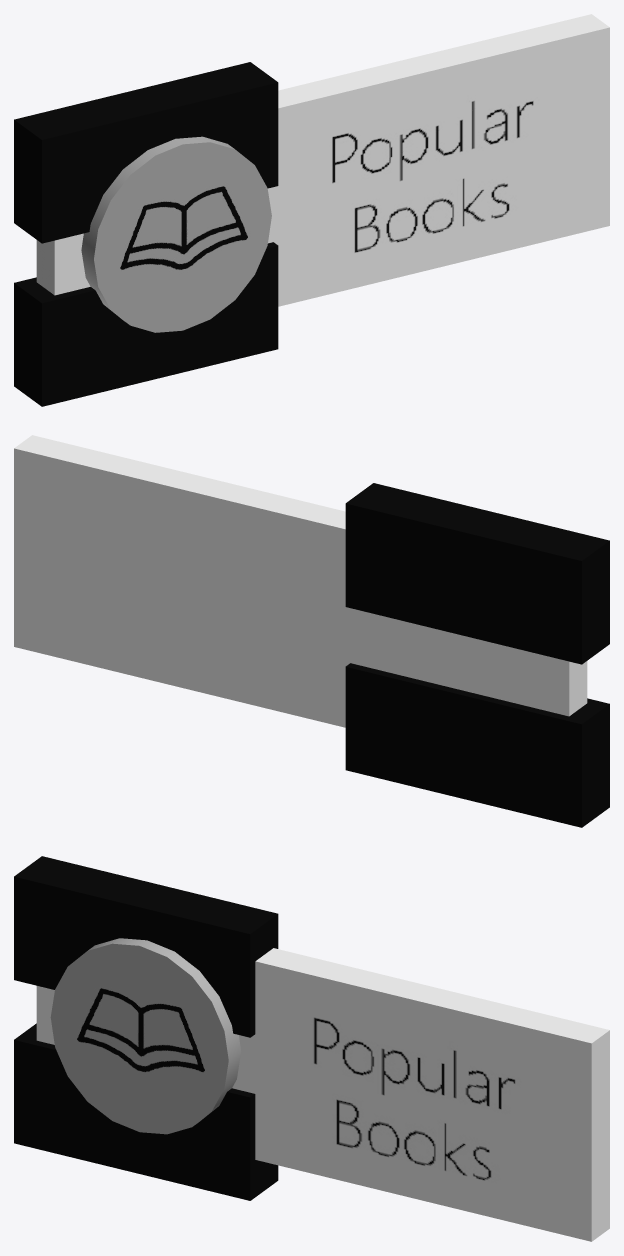
File: PopularBooks.fbx
The picture shows the model from 3 angles, top to bottom: view 1: azimuth 30°, elevation 25°; view 2: azimuth 150°, elevation 25°; view 3: azimuth 330°, elevation 25°; orthographic projection.
Parts seen in each view (by area): view 1: pCube1, pCylinder1, pCube2, pCube3; view 2: pCube1, pCube2, pCube3; view 3: pCube1, pCylinder1, pCube2, pCube3.
Boxes of the visible parts, left/top/right/bottom form: pCube1: left=36, top=14, right=609, bottom=306; pCylinder1: left=81, top=136, right=271, bottom=332; pCube2: left=14, top=62, right=278, bottom=243; pCube3: left=14, top=242, right=278, bottom=406; pCube1: left=14, top=435, right=587, bottom=727; pCube2: left=345, top=483, right=609, bottom=664; pCube3: left=345, top=663, right=609, bottom=827; pCube1: left=36, top=948, right=609, bottom=1241; pCylinder1: left=50, top=938, right=241, bottom=1134; pCube2: left=14, top=856, right=278, bottom=1037; pCube3: left=14, top=1023, right=278, bottom=1200.
Size of the model in its own units: 6.21 by 0.6684 by 2.76.
Materials: 3 (2 with a texture image).
